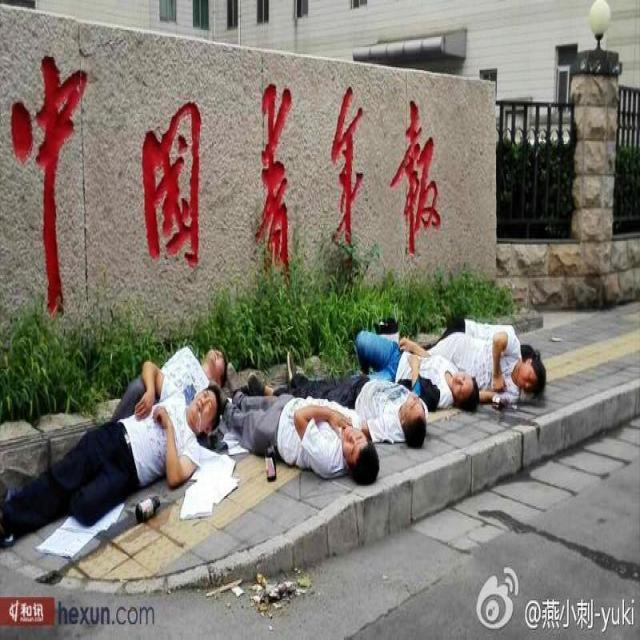fall: (348, 314, 480, 434)
